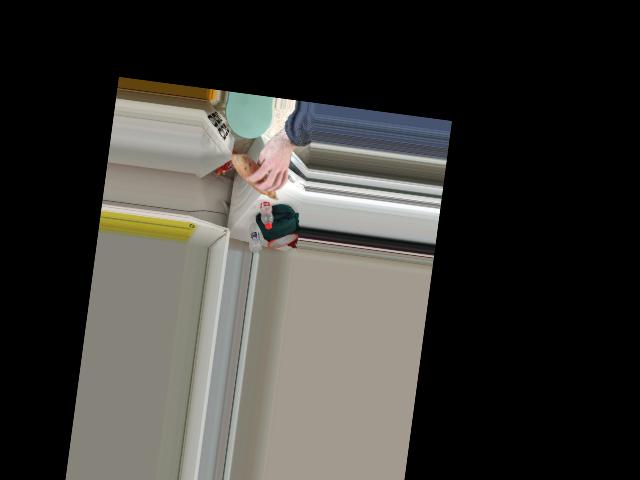sweet_potato: (230, 155, 287, 199)
